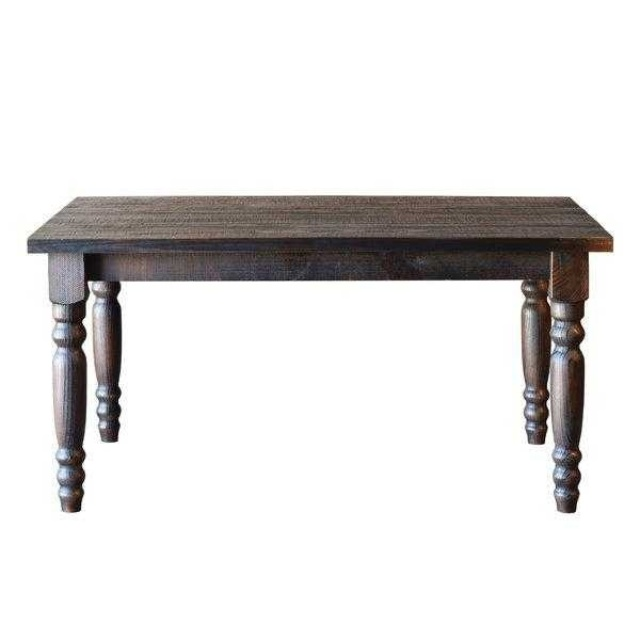obstacle: (28, 196, 612, 512)
